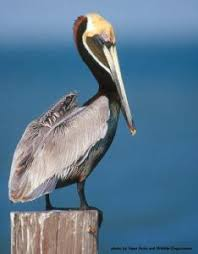pelican: (9, 13, 137, 210)
